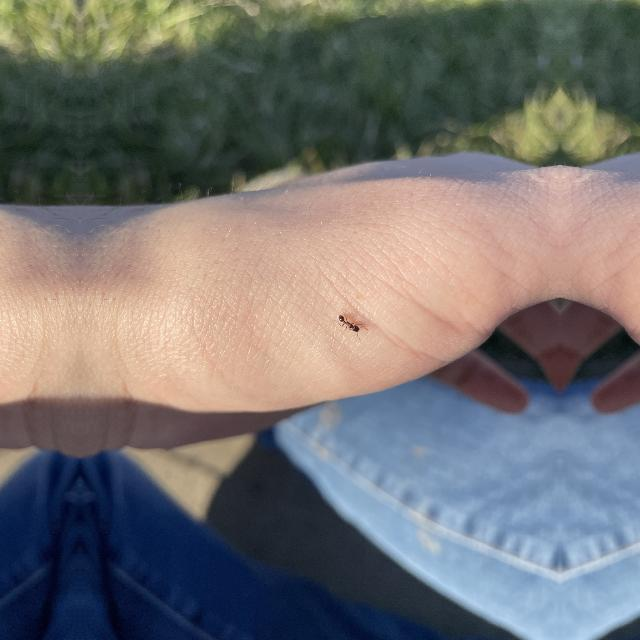Tetramorium: (334, 300, 371, 338)
